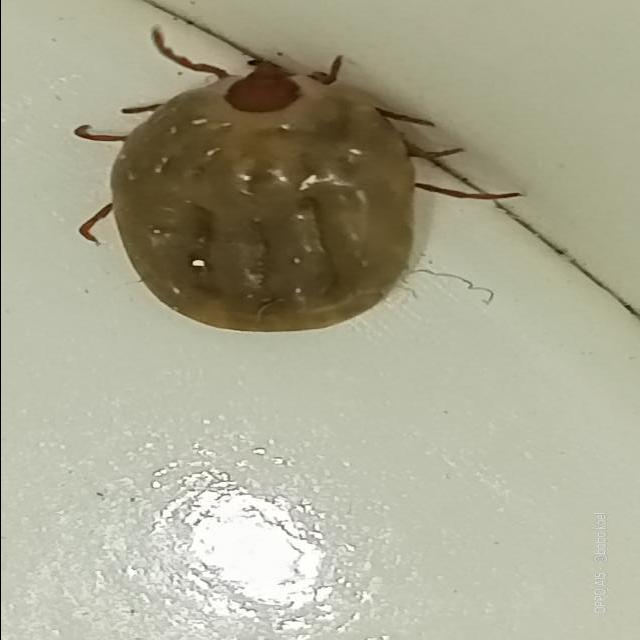Rhipicephalus Sanguineus-F-Fed: (74, 23, 523, 332)
